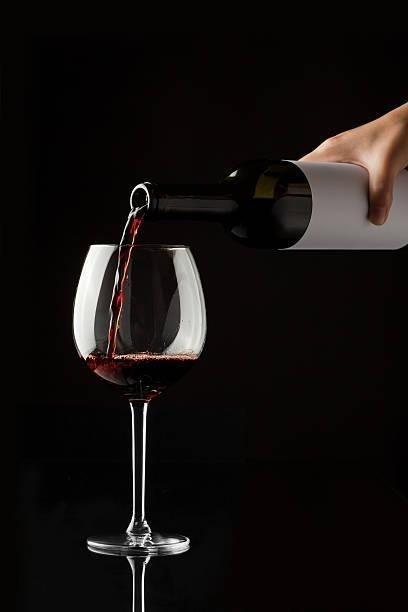bottle-glass: (127, 154, 398, 252)
glass-wine: (71, 241, 207, 555)
